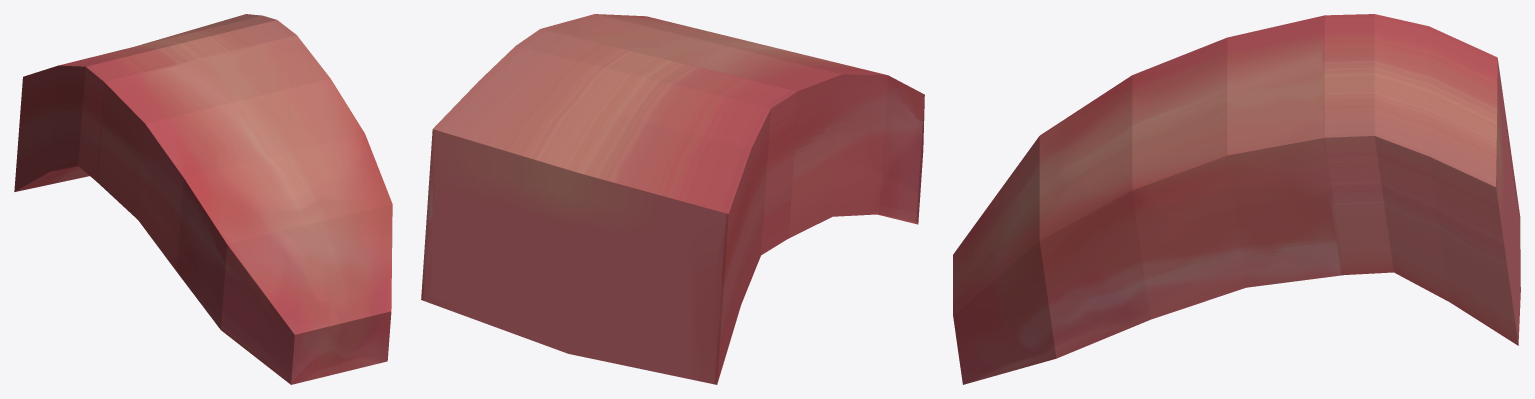
File: tongue.glb
3 renders of one model, left to right at view 1: azimuth 30°, elevation 25°; view 2: azimuth 150°, elevation 25°; view 3: azimuth 270°, elevation 25°, orthographic. The views are drawn at different scales.
Visible parts, largest first — view 1: Cube; view 2: Cube; view 3: Cube.
Part boxes in pixels (<box>): Cube: <box>14,14,392,384</box>; Cube: <box>421,14,924,384</box>; Cube: <box>953,14,1520,384</box>.
Size of the model in its own units: 5.32 by 4.89 by 9.02.
1 material, 1 textured.
